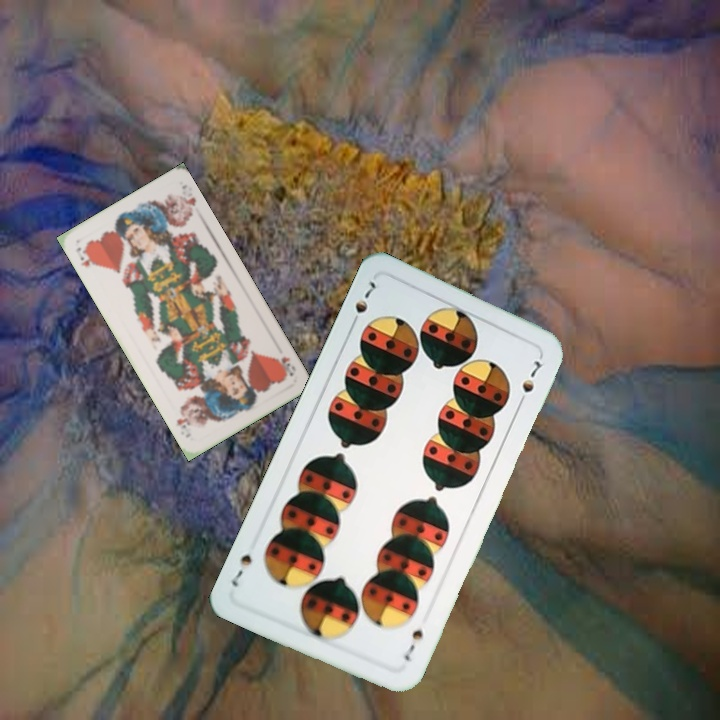HO: (270, 352, 299, 379), (71, 243, 99, 269)
S7: (346, 277, 379, 330), (400, 621, 426, 664)
